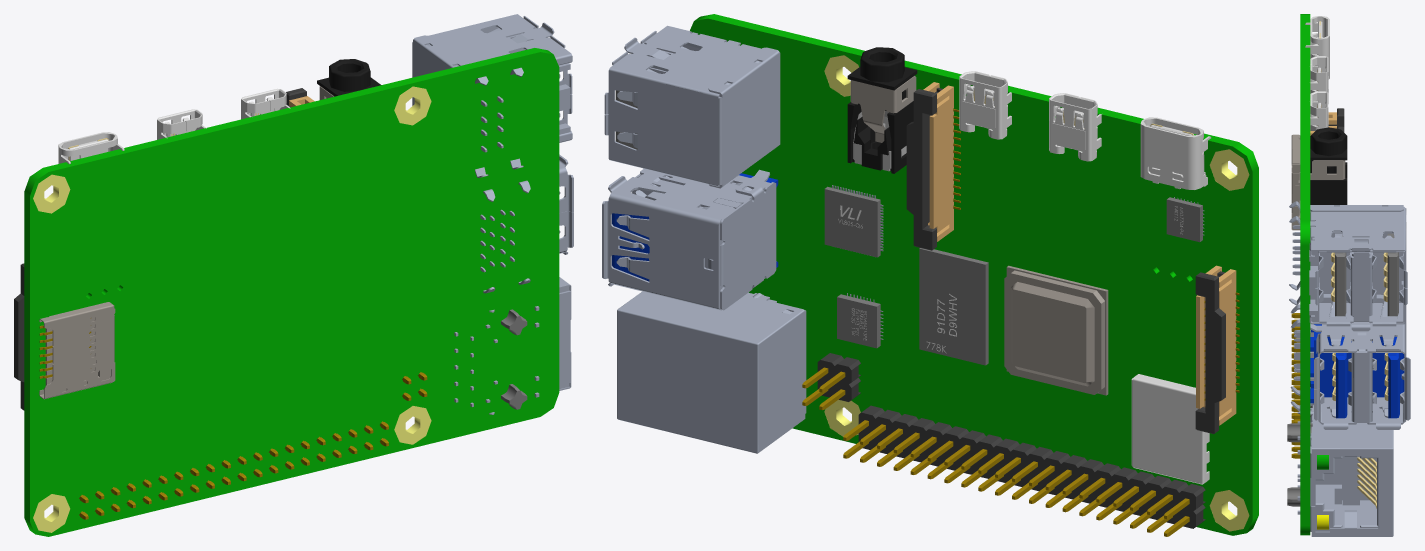
The model's file is Raspberry Pi 4.fbx.
3 views of the same model, side by side, from view 1: azimuth 30°, elevation 25°; view 2: azimuth 150°, elevation 25°; view 3: azimuth 270°, elevation 25° (orthographic). The views are drawn at different scales.
Parts seen in each view (by area): view 1: CornerRadius, Imported1 (×7), Imported4, Imported17, Imported10; view 2: CornerRadius, Imported1 (×9), Top, PartNoAdditional, Imported17 (×2), VentLP, Imported16 (×2), Imported4, SC CP, PartNoE3, PartNoExtended, LocatingArrow; view 3: Imported1 (×8), CornerRadius, Imported4, Imported10, Imported17.
Part boxes in pixels (x1=…): CornerRadius: x1=24, y1=48, x2=559, y2=536; Imported1 (×7): x1=39, y1=14, x2=573, y2=414; Imported4: x1=317, y1=59, x2=381, y2=98; Imported17: x1=14, y1=263, x2=24, y2=410; Imported10: x1=45, y1=302, x2=114, y2=391; CornerRadius: x1=690, y1=14, x2=1258, y2=535; Imported1 (×9): x1=602, y1=25, x2=1211, y2=528; Top: x1=1004, y1=270, x2=1104, y2=394; PartNoAdditional: x1=919, y1=248, x2=988, y2=365; Imported17 (×2): x1=906, y1=87, x2=1225, y2=433; VentLP: x1=1131, y1=374, x2=1209, y2=484; Imported16 (×2): x1=923, y1=82, x2=1236, y2=425; Imported4: x1=847, y1=47, x2=917, y2=173; SC CP: x1=824, y1=185, x2=883, y2=257; PartNoE3: x1=837, y1=293, x2=883, y2=348; PartNoExtended: x1=1166, y1=197, x2=1204, y2=242; LocatingArrow: x1=1006, y1=265, x2=1108, y2=395; Imported1 (×8): x1=1287, y1=16, x2=1410, y2=536; CornerRadius: x1=1300, y1=14, x2=1310, y2=535; Imported4: x1=1310, y1=127, x2=1347, y2=204; Imported10: x1=1292, y1=140, x2=1300, y2=230; Imported17: x1=1328, y1=108, x2=1344, y2=126.
Bounding box in the file's own units: 88.99 × 58.4 × 19.9.
